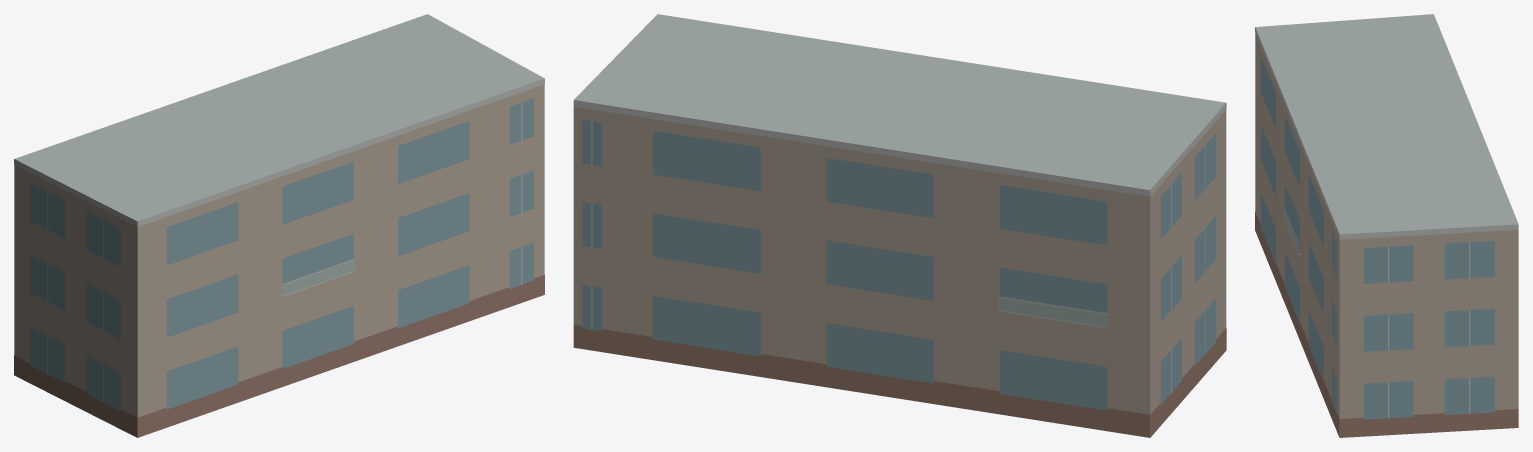
File: survey-upis-32616514.glb
3 renders of one model, left to right at view 1: azimuth 30°, elevation 25°; view 2: azimuth 150°, elevation 25°; view 3: azimuth 270°, elevation 25°, orthographic. The views are drawn at different scales.
Visible parts, largest first — view 1: survey-upis-32616514.tmp; view 2: survey-upis-32616514.tmp; view 3: survey-upis-32616514.tmp.
Part boxes in pixels (x1,y1,x2,y2): survey-upis-32616514.tmp: (14,14,544,437); survey-upis-32616514.tmp: (573,14,1226,437); survey-upis-32616514.tmp: (1255,14,1518,437).
Bounding box in the file's own units: 21.27 × 9.15 × 10.75.
